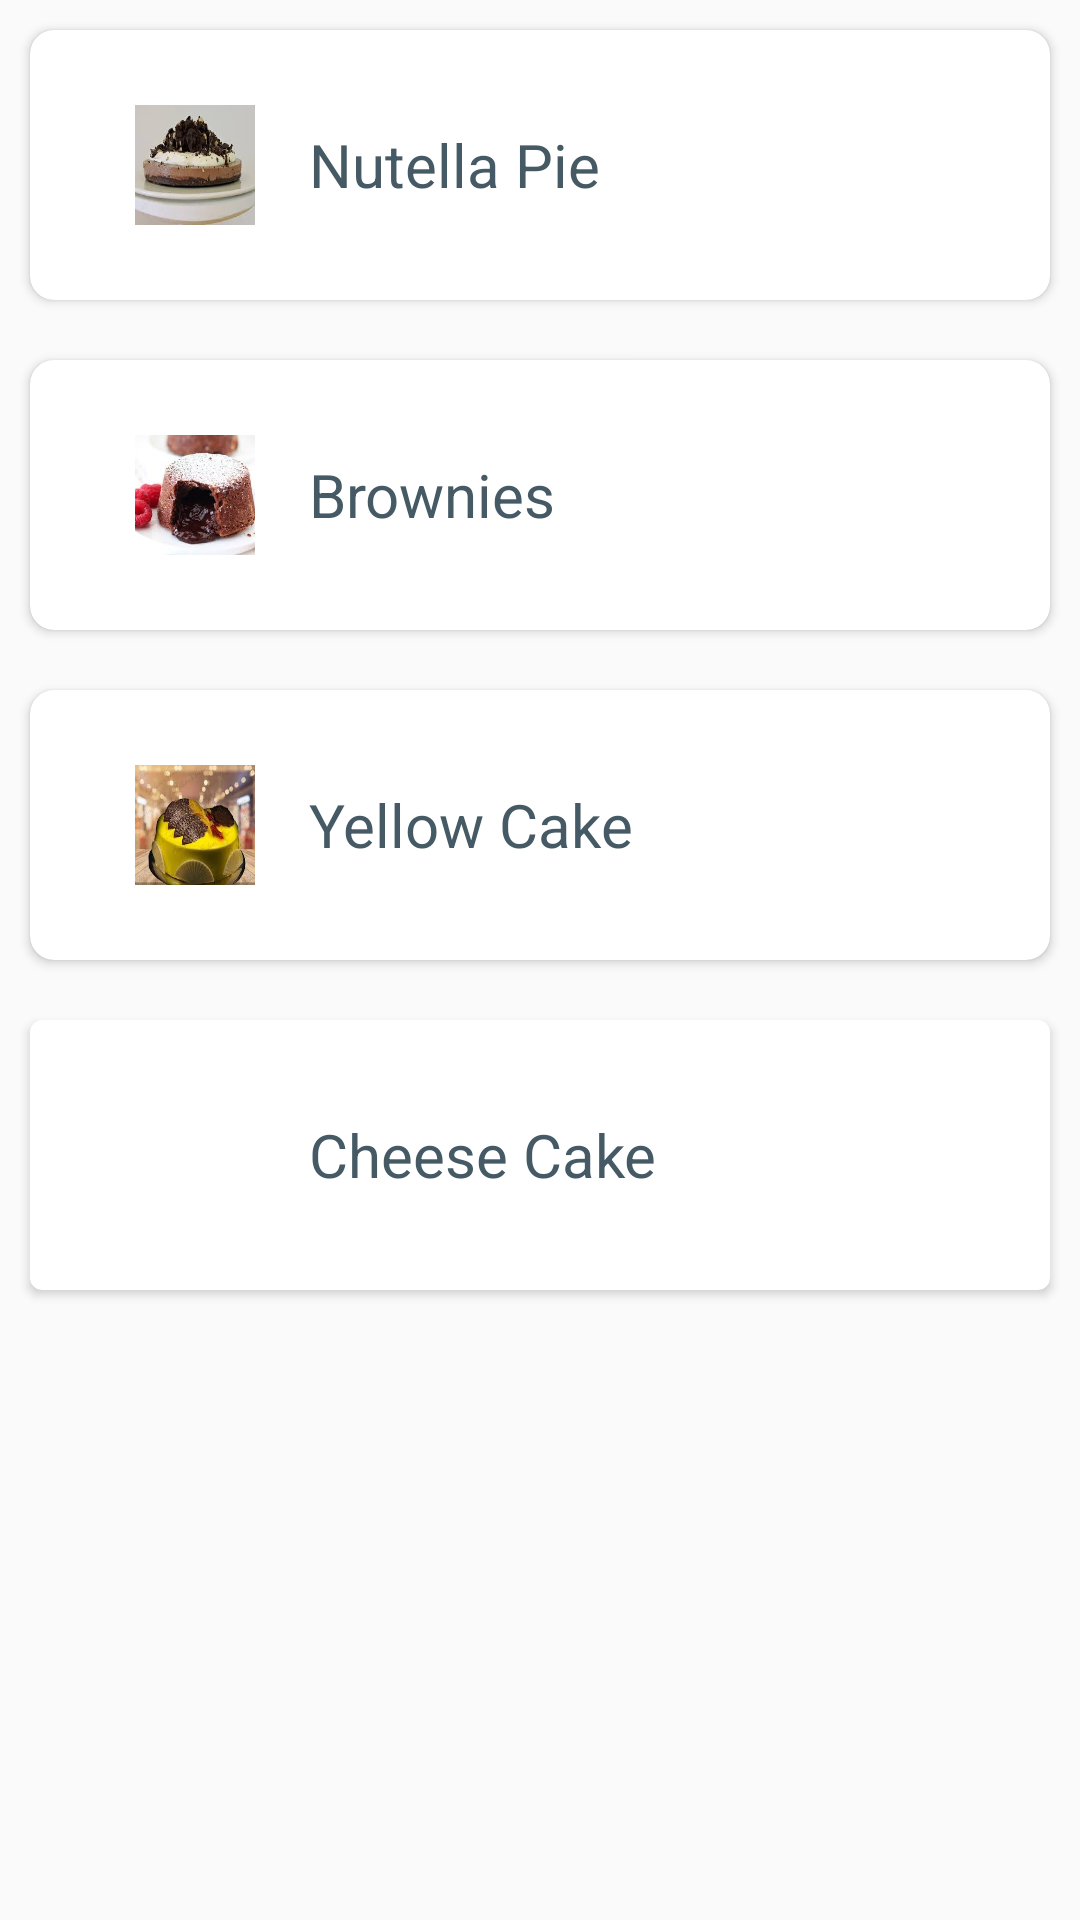

Screen size 1080*1920. Icon name, then its center in pixels as point (x, y):
brownie cake: point (195, 495)
